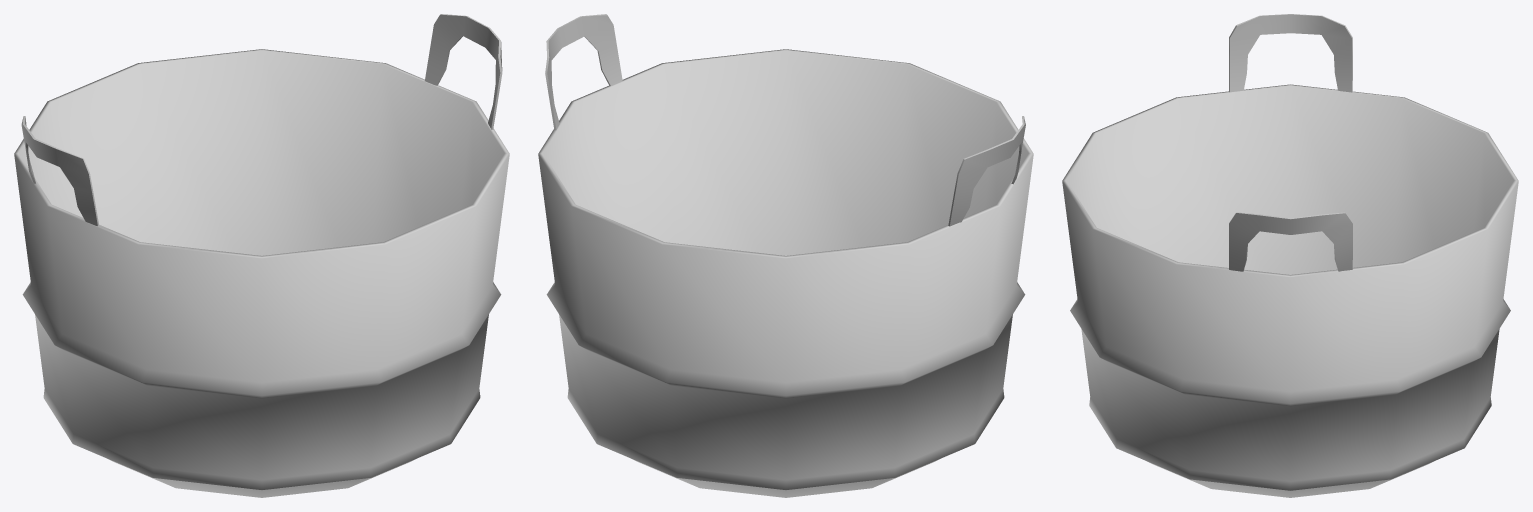
The model's file is Laundry_Tub_B.FBX.
3 views of the same model, side by side, from view 1: azimuth 30°, elevation 25°; view 2: azimuth 150°, elevation 25°; view 3: azimuth 270°, elevation 25° (orthographic). The views are drawn at different scales.
Parts seen in each view (by area): view 1: Laundry_Tub; view 2: Laundry_Tub; view 3: Laundry_Tub.
Part boxes in pixels (box(x1,y1,x2,y2)): Laundry_Tub: box(14, 14, 509, 497); Laundry_Tub: box(538, 14, 1033, 497); Laundry_Tub: box(1062, 14, 1518, 497).
Size of the model in its own units: 102 by 73.29 by 96.11.
